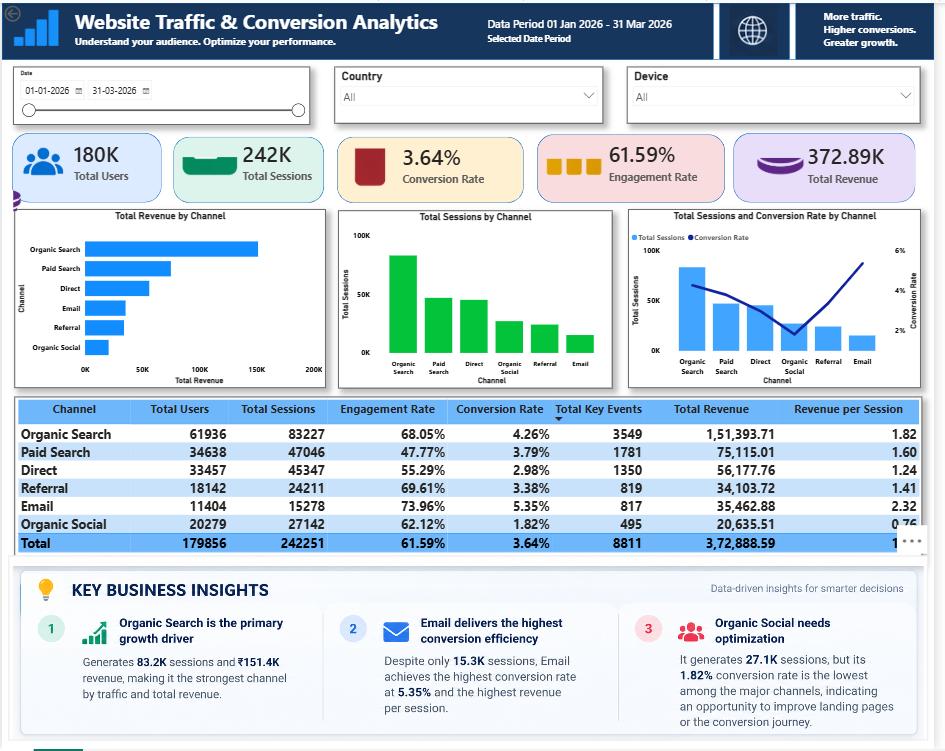

The page's visual inventory and layout, read from the dashboard file:
{"tool":"powerbi","page":{"name":"Page 1","canvas":[1750,1400],"ordinal":0},"visuals":[{"type":"clusteredColumnChart","fields":{"Category":["GA4_Website_Traffic_PowerBI_Project.Channel"],"Y":["measure.Total Sessions"]},"box":[631.7,389.9,514.1,333.3],"z":0},{"type":"lineClusteredColumnComboChart","fields":{"Category":["GA4_Website_Traffic_PowerBI_Project.Channel"],"Y":["measure.Total Sessions"],"Y2":["measure.Conversion Rate"]},"box":[1174.1,387.7,548.9,335.5],"z":1000},{"type":"tableEx","fields":{"Values":["GA4_Website_Traffic_PowerBI_Project.Channel","measure.Total Users","measure.Total Sessions","measure.Engagement Rate","measure.Conversion Rate","measure.Total Key Events","measure.Total Revenue","measure.Revenue per Session"]},"box":[24,738.4,1703.4,313.7],"z":2000},{"type":"clusteredBarChart","fields":{"Category":["GA4_Website_Traffic_PowerBI_Project.Channel"],"Y":["measure.Total Revenue"]},"box":[24,387.7,583.8,335.5],"z":3000},{"type":"slicer","fields":{"Values":["GA4_Website_Traffic_PowerBI_Project.Date"]},"box":[22.1,120.6,557,108.6],"z":4000},{"type":"slicer","fields":{"Values":["GA4_Website_Traffic_PowerBI_Project.Device"]},"box":[1172.3,120.6,550.1,106.7],"z":5000},{"type":"slicer","fields":{"Values":["GA4_Website_Traffic_PowerBI_Project.Country"]},"box":[623.3,120.6,504.1,106.7],"z":6000},{"type":"shape","box":[0,0,1749.3,106.6],"z":7000},{"type":"shape","box":[19.6,244,281,130.7],"z":8000},{"type":"shape","box":[322.4,250.5,283.2,124.2],"z":9000},{"type":"shape","box":[629.5,250.5,350.7,124.2],"z":10000},{"type":"shape","box":[1004.2,246.1,352.9,128.5],"z":11000},{"type":"shape","box":[1372.3,244,342,130.7],"z":12000},{"type":"cardVisual","fields":{"Data":["measure.Total Users"]},"box":[104.6,226.5,233,136.5],"z":13000},{"type":"cardVisual","fields":{"Data":["measure.Total Sessions"]},"box":[422.6,217.8,191.7,156.8],"z":14000},{"type":"cardVisual","fields":{"Data":["measure.Conversion Rate"]},"box":[723.2,217.8,237.4,167.7],"z":15000},{"type":"cardVisual","fields":{"Data":["measure.Engagement Rate"]},"box":[1108.8,222.2,248.3,148.1],"z":16000},{"type":"cardVisual","fields":{"Data":["measure.Total Revenue"]},"box":[1483.4,226.5,224.7,146.5],"z":17000},{"type":"textbox","box":[130.7,4,929,94.5],"z":18000},{"type":"textbox","box":[1536.2,8,211.1,106.6],"z":19000},{"type":"shape","box":[1477.9,0,12.1,106.6],"z":20000},{"type":"image","box":[20.1,0,84.5,94.5],"z":21000},{"type":"image","box":[1357.2,4,104.6,94.5],"z":22000},{"type":"shape","box":[1335.1,0,12.1,106.6],"z":23000},{"type":"cardVisual","fields":{"Data":["measure.Selected Date Period"]},"box":[882.7,10.1,428.3,84.5],"z":24000},{"type":"actionButton","box":[0,0,100,40],"z":25000},{"type":"image","box":[21.8,267.9,95.8,126.3],"z":26000},{"type":"image","box":[337.6,261.4,104.6,113.3],"z":27000},{"type":"image","box":[1017.3,261.4,108.9,132.9],"z":28000},{"type":"image","box":[1400.6,259.2,104.6,93.7],"z":29000},{"type":"image","box":[660,267.9,63.2,85],"z":30000},{"type":"image","box":[11.7,1036.9,1726.6,347.2],"z":31000}]}

Visuals, with their boxes in screenshot pixels (x1, y1, x2, y2), scaled from the page's 1750x1400 canvas onto the 945x751 screenshot:
clusteredColumnChart - GA4_Website_Traffic_PowerBI_Project.Channel x measure.Total Sessions: {"x1": 341, "y1": 209, "x2": 619, "y2": 388}
lineClusteredColumnComboChart - GA4_Website_Traffic_PowerBI_Project.Channel x measure.Total Sessions: {"x1": 634, "y1": 208, "x2": 930, "y2": 388}
tableEx - GA4_Website_Traffic_PowerBI_Project.Channel x measure.Total Users: {"x1": 13, "y1": 396, "x2": 933, "y2": 564}
clusteredBarChart - GA4_Website_Traffic_PowerBI_Project.Channel x measure.Total Revenue: {"x1": 13, "y1": 208, "x2": 328, "y2": 388}
slicer - GA4_Website_Traffic_PowerBI_Project.Date: {"x1": 12, "y1": 65, "x2": 313, "y2": 123}
slicer - GA4_Website_Traffic_PowerBI_Project.Device: {"x1": 633, "y1": 65, "x2": 930, "y2": 122}
slicer - GA4_Website_Traffic_PowerBI_Project.Country: {"x1": 337, "y1": 65, "x2": 609, "y2": 122}
shape: {"x1": 0, "y1": 0, "x2": 944, "y2": 57}
shape: {"x1": 11, "y1": 131, "x2": 162, "y2": 201}
shape: {"x1": 174, "y1": 134, "x2": 327, "y2": 201}
shape: {"x1": 340, "y1": 134, "x2": 529, "y2": 201}
shape: {"x1": 542, "y1": 132, "x2": 733, "y2": 201}
shape: {"x1": 741, "y1": 131, "x2": 926, "y2": 201}
cardVisual - measure.Total Users: {"x1": 56, "y1": 122, "x2": 182, "y2": 195}
cardVisual - measure.Total Sessions: {"x1": 228, "y1": 117, "x2": 332, "y2": 201}
cardVisual - measure.Conversion Rate: {"x1": 391, "y1": 117, "x2": 519, "y2": 207}
cardVisual - measure.Engagement Rate: {"x1": 599, "y1": 119, "x2": 733, "y2": 199}
cardVisual - measure.Total Revenue: {"x1": 801, "y1": 122, "x2": 922, "y2": 200}
textbox: {"x1": 71, "y1": 2, "x2": 572, "y2": 53}
textbox: {"x1": 830, "y1": 4, "x2": 944, "y2": 61}
shape: {"x1": 798, "y1": 0, "x2": 805, "y2": 57}
image: {"x1": 11, "y1": 0, "x2": 56, "y2": 51}
image: {"x1": 733, "y1": 2, "x2": 789, "y2": 53}
shape: {"x1": 721, "y1": 0, "x2": 727, "y2": 57}
cardVisual - measure.Selected Date Period: {"x1": 477, "y1": 5, "x2": 708, "y2": 51}
actionButton: {"x1": 0, "y1": 0, "x2": 54, "y2": 21}
image: {"x1": 12, "y1": 144, "x2": 64, "y2": 211}
image: {"x1": 182, "y1": 140, "x2": 239, "y2": 201}
image: {"x1": 549, "y1": 140, "x2": 608, "y2": 212}
image: {"x1": 756, "y1": 139, "x2": 813, "y2": 189}
image: {"x1": 356, "y1": 144, "x2": 391, "y2": 189}
image: {"x1": 6, "y1": 556, "x2": 939, "y2": 742}
